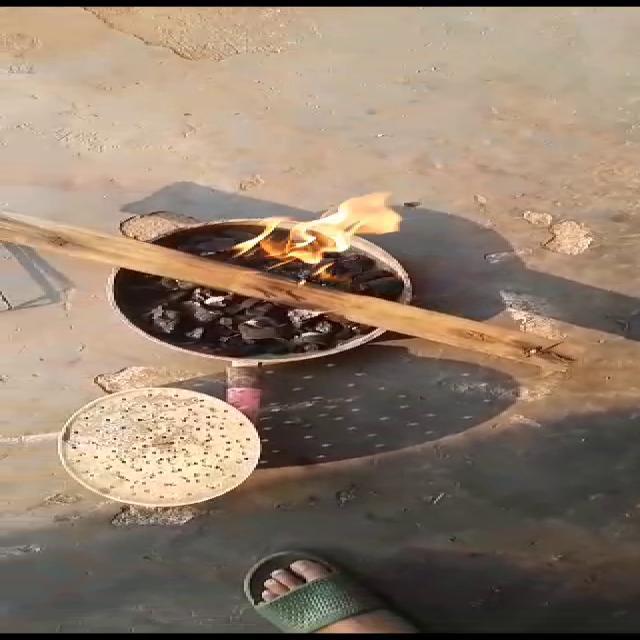Fire: (217, 181, 415, 287)
